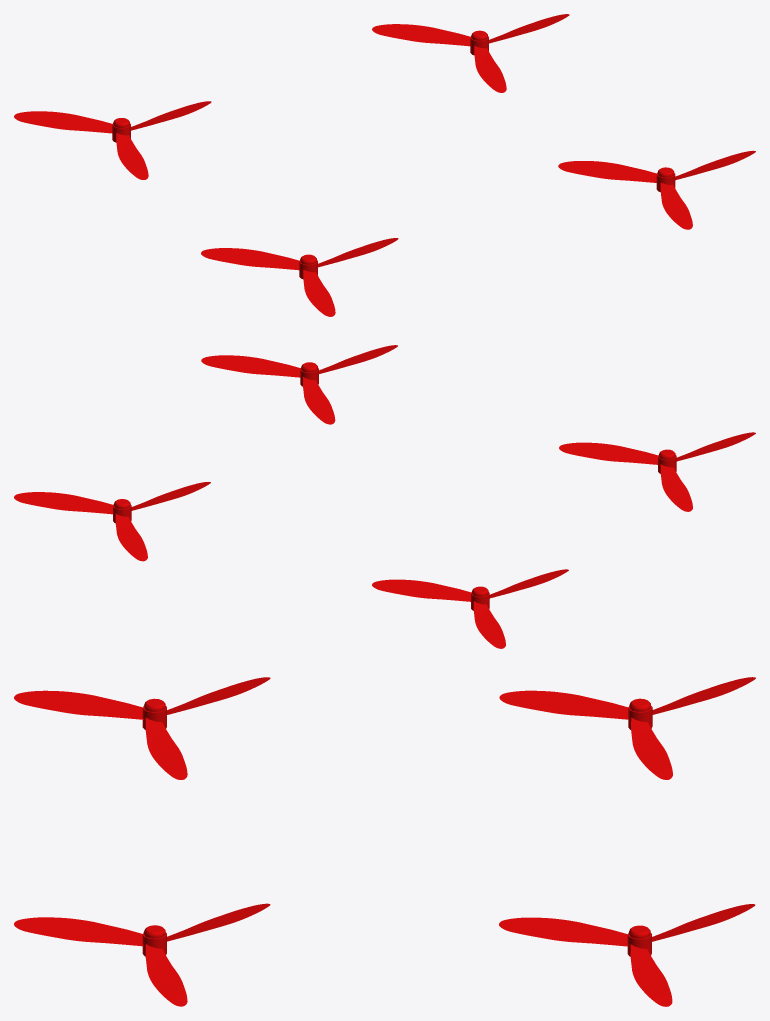
The model's file is propelericrveni.fbx.
3 views of the same model, one above another, from view 1: azimuth 30°, elevation 25°; view 2: azimuth 150°, elevation 25°; view 3: azimuth 270°, elevation 25° (orthographic). The views are drawn at different scales.
Visible parts, largest first — view 1: prop027.002, prop027.004, prop027.003, prop027.001; view 2: prop027.001, prop027.002, prop027.004, prop027.003; view 3: prop027.004, prop027.003, prop027.002, prop027.001.
Boxes of the visible parts, <box> form: prop027.002: <box>14,101,211,179</box>; prop027.004: <box>558,150,755,229</box>; prop027.003: <box>372,14,569,92</box>; prop027.001: <box>201,238,398,316</box>; prop027.001: <box>559,432,755,511</box>; prop027.002: <box>372,569,568,648</box>; prop027.004: <box>201,345,397,424</box>; prop027.003: <box>14,482,210,561</box>; prop027.004: <box>14,903,270,1006</box>; prop027.003: <box>499,904,755,1006</box>; prop027.002: <box>499,677,755,779</box>; prop027.001: <box>14,677,270,779</box>.
Size of the model in its own units: 687 by 23.74 by 652.
